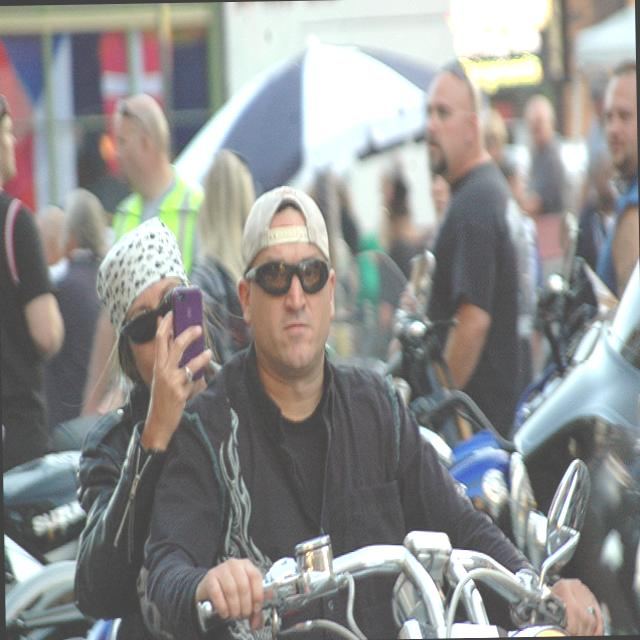Vehicle: (187, 464, 621, 637), (508, 257, 640, 629), (371, 309, 517, 555), (507, 202, 620, 434), (2, 417, 88, 571), (4, 534, 95, 638)
